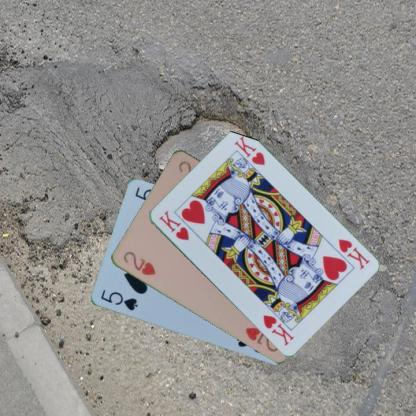2h: (120, 248, 157, 277)
5s: (98, 287, 138, 312)
Kh: (335, 236, 371, 272), (156, 208, 190, 242)
